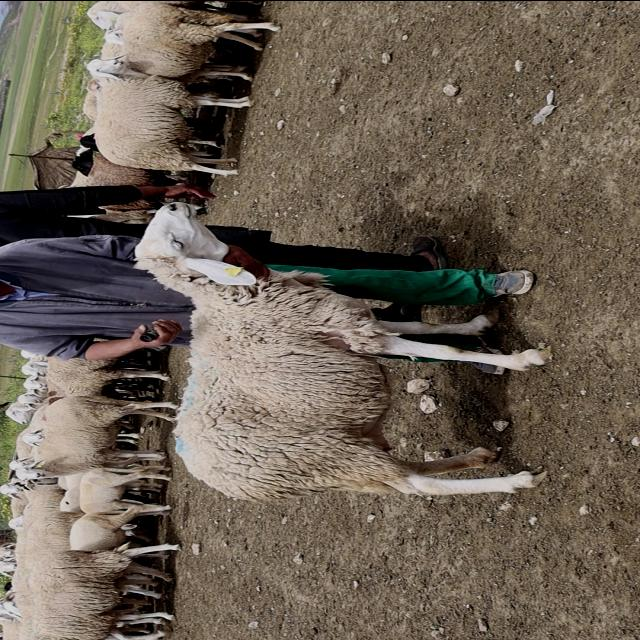Score_2: (135, 202, 549, 500)
